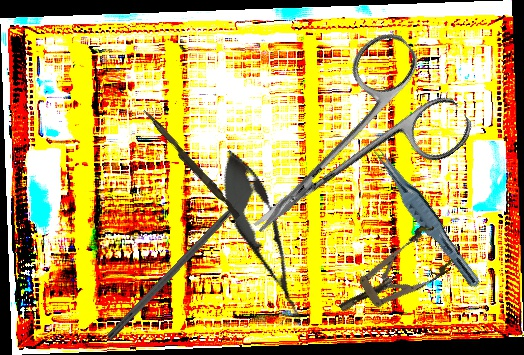Hook Surgical: (105, 183, 261, 343)
Iris Scissors: (209, 23, 480, 279)
Micro Scissor: (206, 142, 320, 329)
Pusher: (138, 108, 244, 220)
Speculum: (326, 220, 458, 331)
Tissue Forceps: (362, 140, 490, 291)
